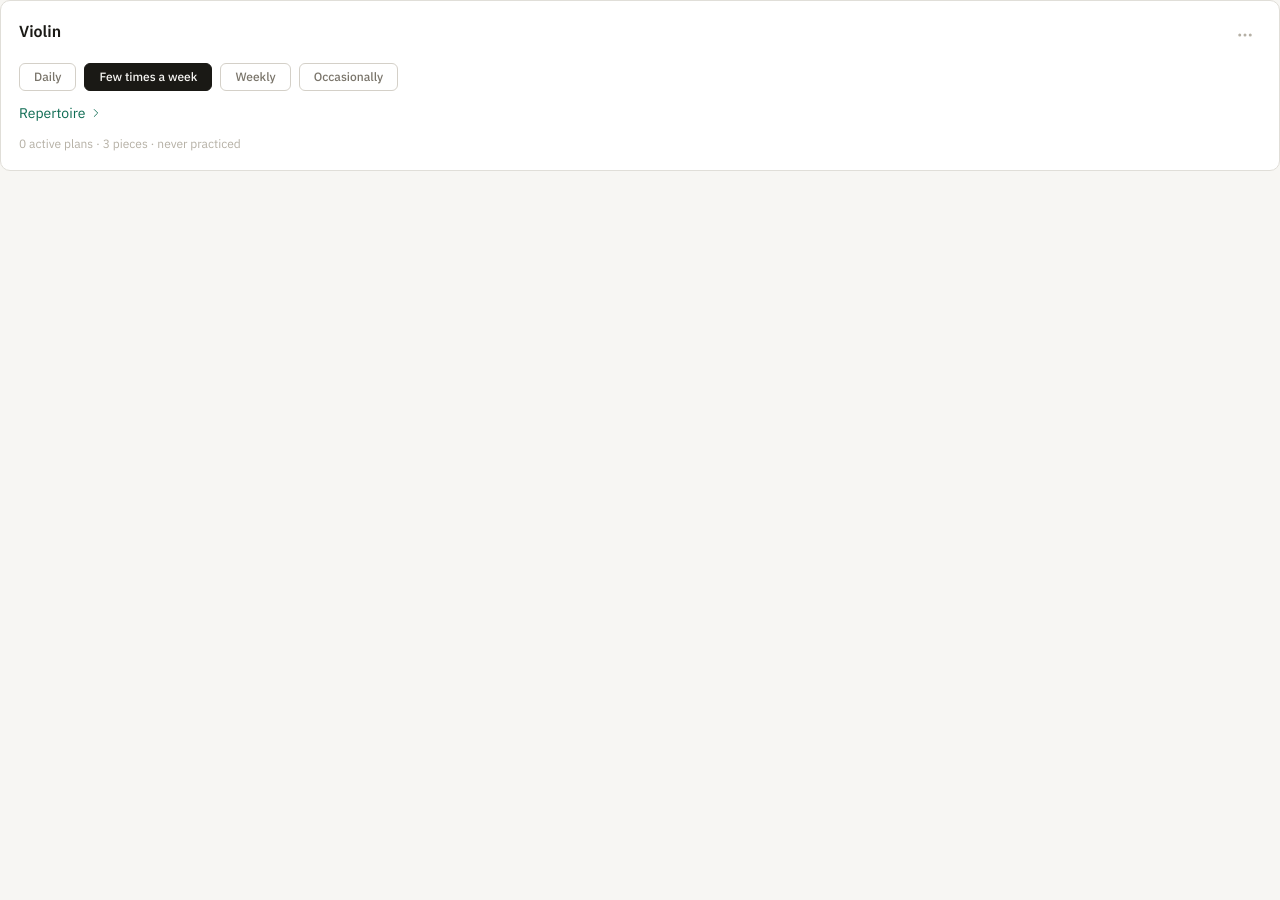
Scenario: InstrumentCard › omits the plan cascade entirely when there are no plans at all
Click the button named "Instrument actions".
click(1245, 35)  # box [1229,19,1261,51]
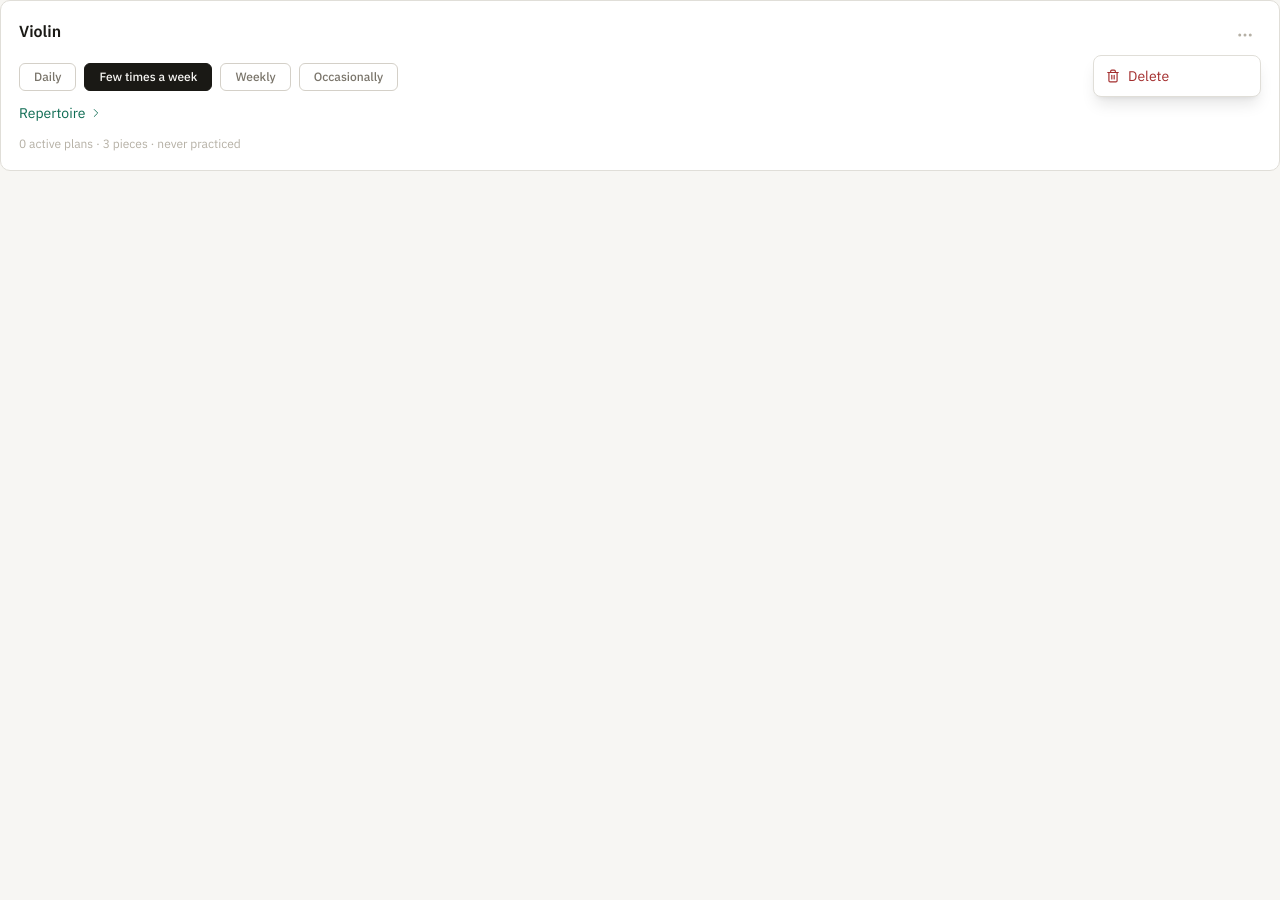
Click the menu item "Delete".
click(1138, 76)  # box [1106,67,1169,85]
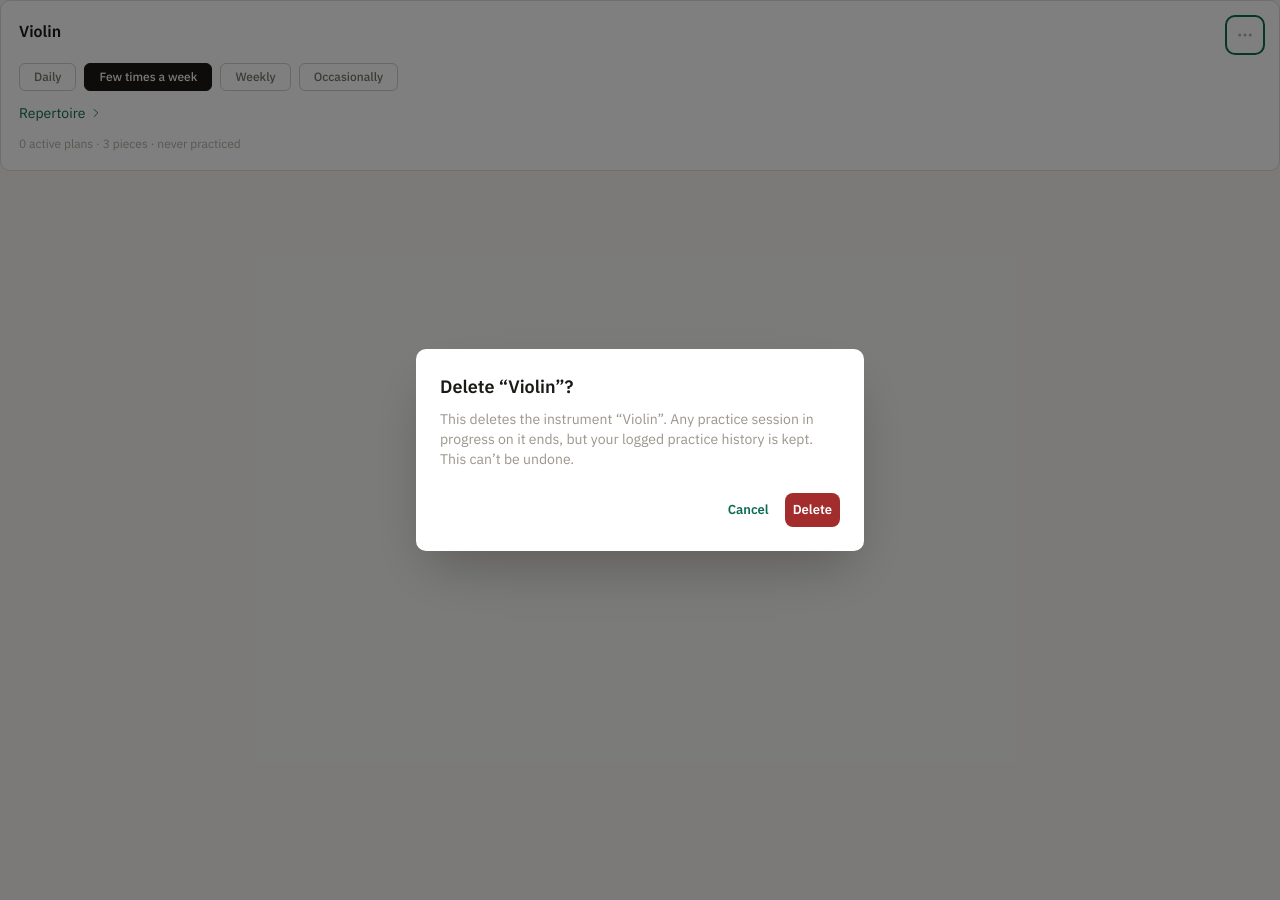
Check: the dialog shows "your logged practice history is kept", box [440,410,814,468]
